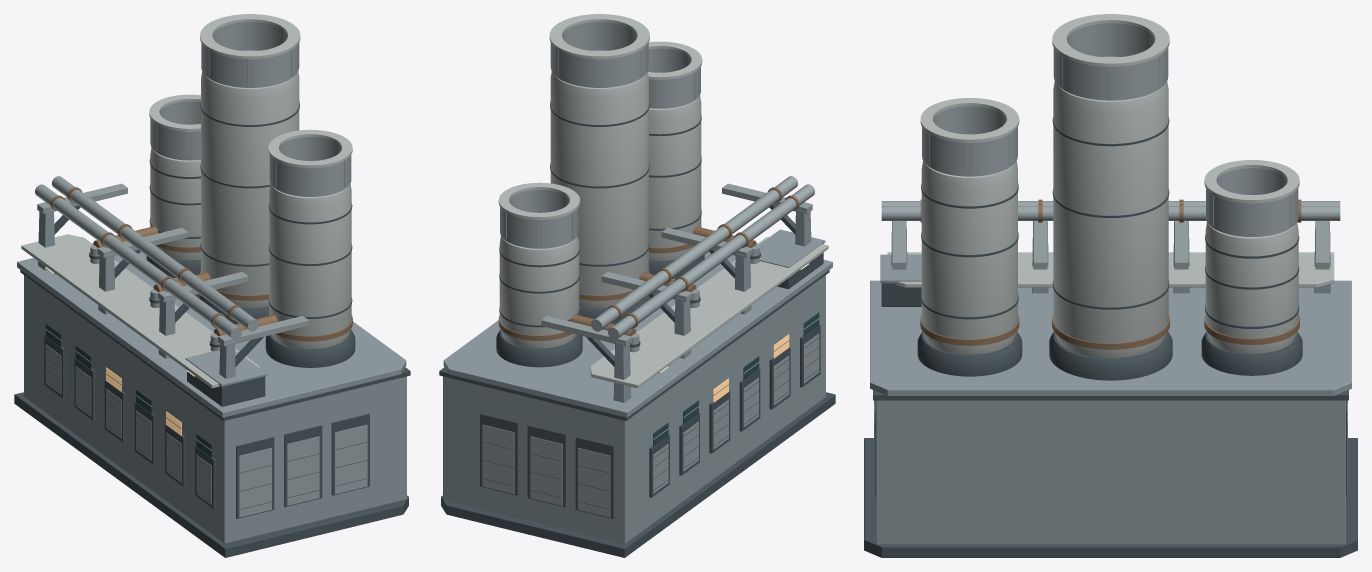
Rendered from Nocturne_ThermalExchange_Works.fbx.
The picture shows the model from 3 angles, left to right: view 1: azimuth 30°, elevation 25°; view 2: azimuth 150°, elevation 25°; view 3: azimuth 270°, elevation 25°; orthographic projection. The views are drawn at different scales.
Visible parts, largest first — view 1: Nocturne_ThermalExchange_Works; view 2: Nocturne_ThermalExchange_Works; view 3: Nocturne_ThermalExchange_Works.
Part boxes in pixels (box(x1,y1,x2,y2)): Nocturne_ThermalExchange_Works: box(14, 14, 410, 557); Nocturne_ThermalExchange_Works: box(439, 14, 835, 557); Nocturne_ThermalExchange_Works: box(864, 14, 1357, 557).
Bounding box in the file's own units: 44.7 × 90.95 × 84.
